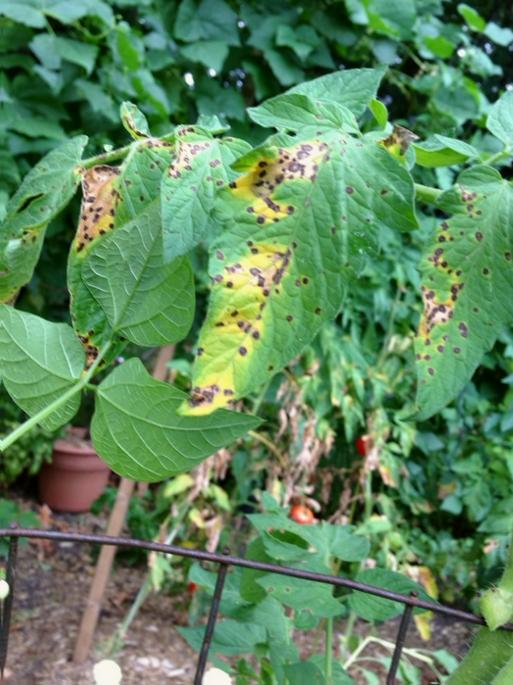Tomato Septoria leaf spot: (177, 138, 381, 418), (401, 165, 513, 415), (164, 132, 223, 276)
Tomato leaf: (0, 297, 85, 435)
